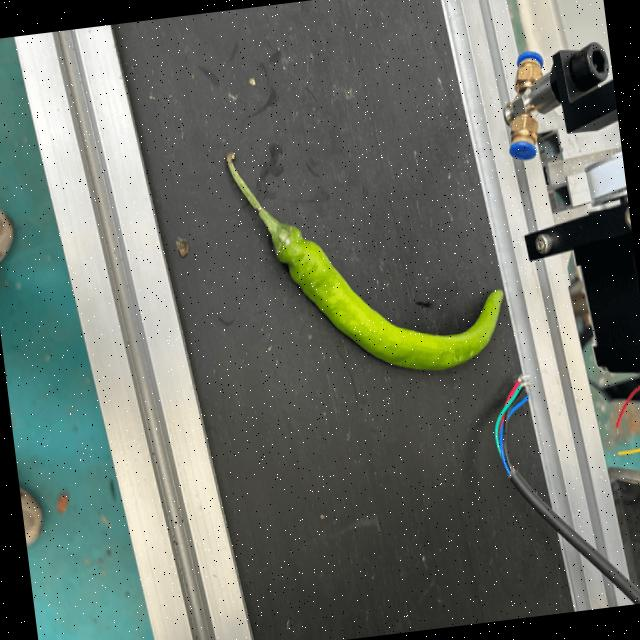chili: (268, 218, 502, 370)
